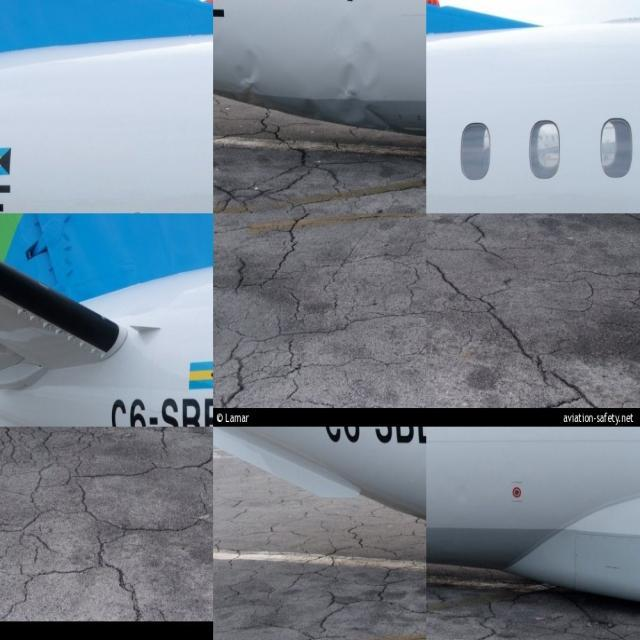dent: (234, 19, 392, 136)
